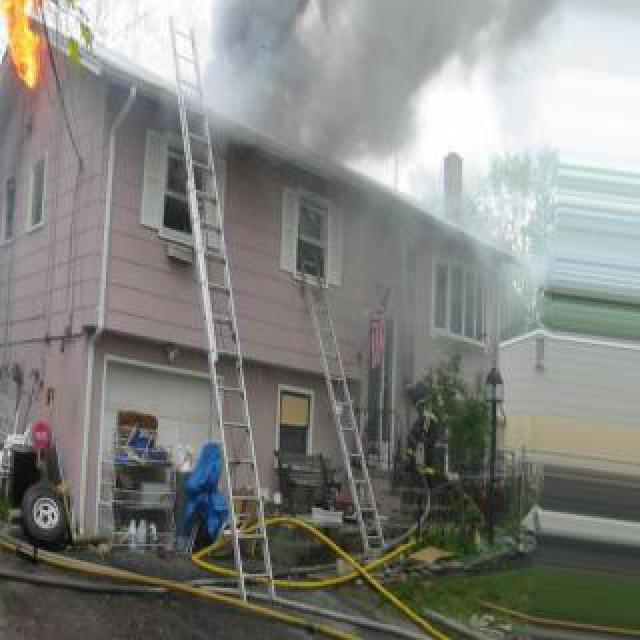Fire: (5, 0, 47, 93)
Smoke: (198, 0, 556, 172)
